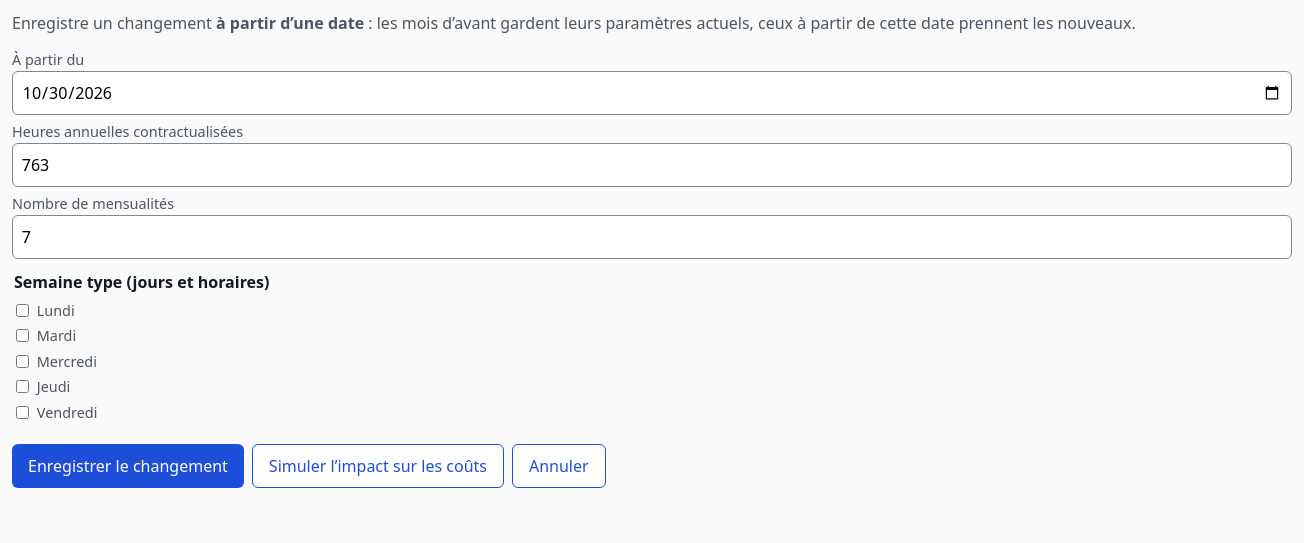
FormulaireVersionContrat › avenant : un 409 devient un message parent (date déjà prise)
Click the button "Enregistrer le changement".
click(128, 466)  # box top-left (12, 444), bottom-right (244, 488)
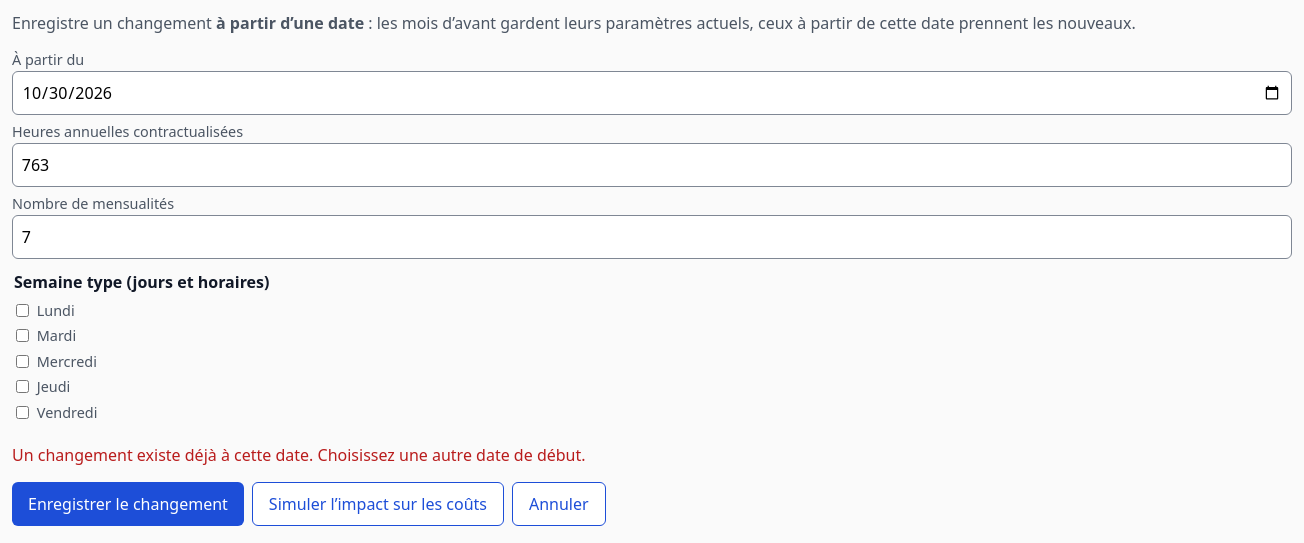
Check: the text "Un changement existe déjà à cette date. Choisissez une autre date de début." is shown, box top-left (12, 444), bottom-right (586, 466)
